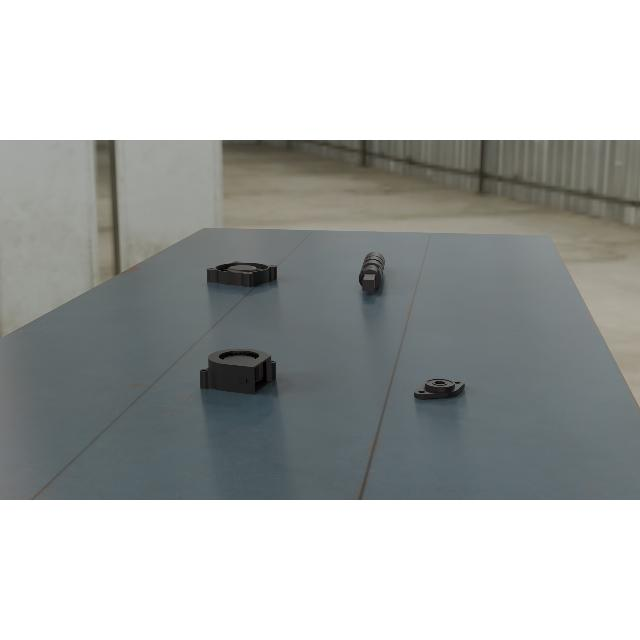Pieza1: (356, 248, 386, 298)
Pieza2: (404, 373, 476, 402)
Pieza3: (196, 346, 278, 396)
Pieza4: (204, 262, 280, 288)
